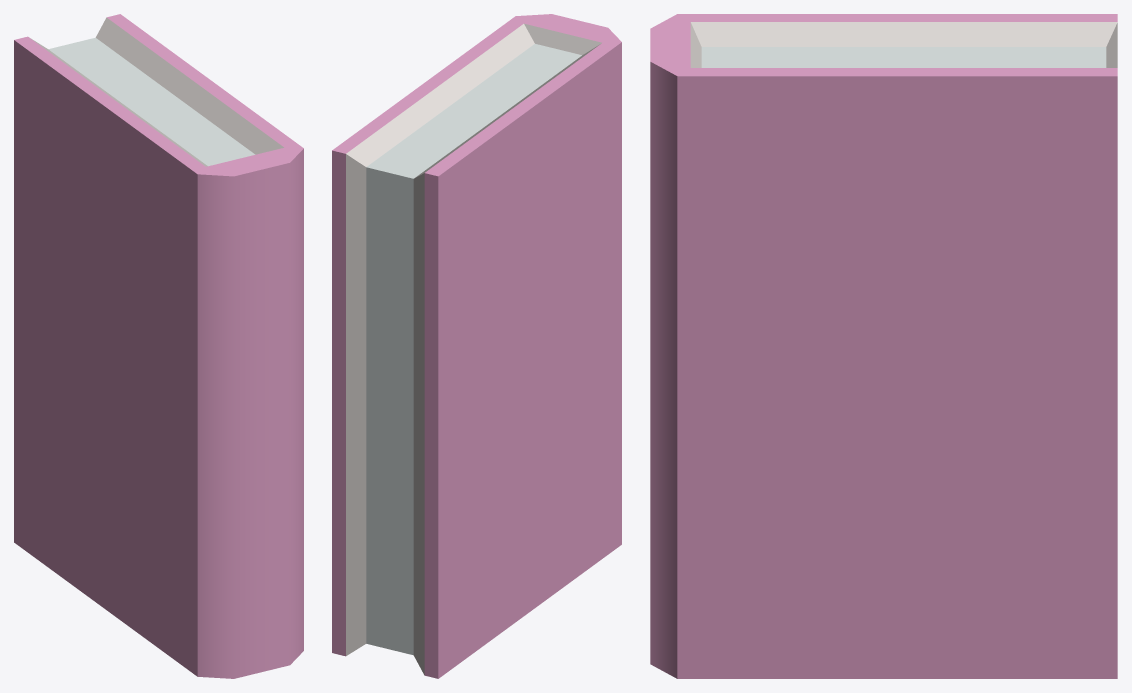
File: book4.fbx
3 views of the same model, side by side, from view 1: azimuth 30°, elevation 25°; view 2: azimuth 150°, elevation 25°; view 3: azimuth 270°, elevation 25° (orthographic). The views are drawn at different scales.
Parts seen in each view (by area): view 1: book4; view 2: book4; view 3: book4.
Part boxes in pixels (x1,y1,x2,y2): book4: [14, 14, 303, 678]; book4: [332, 14, 621, 678]; book4: [650, 14, 1117, 678].
Bounding box in the file's own units: 0.3662 × 1.65 × 1.16.
1 material, 1 textured.
